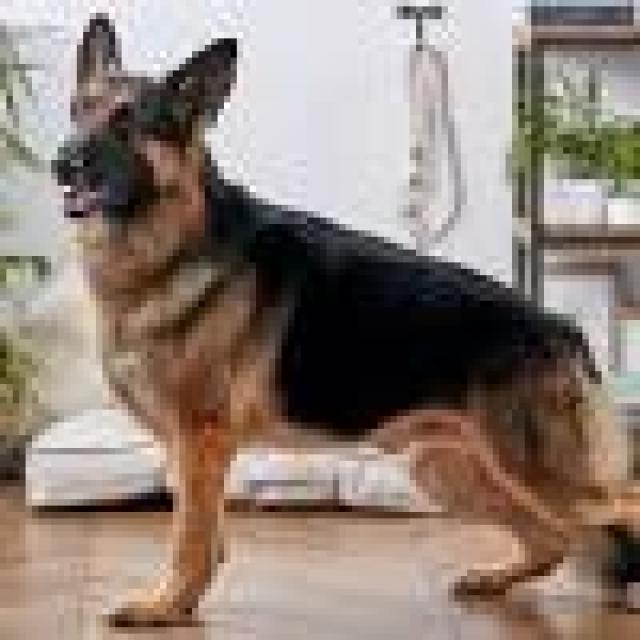Dog: (47, 10, 626, 640)
